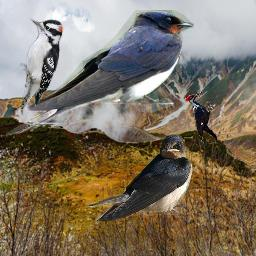Swallow: (6, 10, 194, 141), (84, 134, 193, 221)
Woodpecker: (20, 15, 67, 116), (184, 91, 218, 144)
